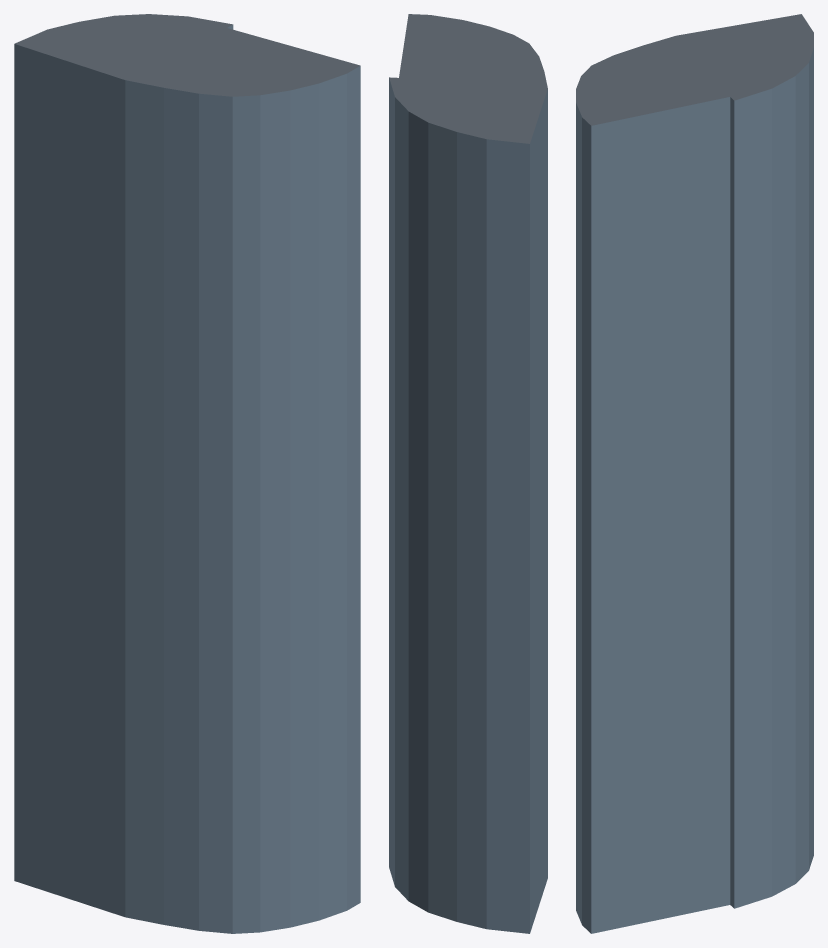
The picture shows the model from 3 angles, left to right: view 1: azimuth 30°, elevation 25°; view 2: azimuth 150°, elevation 25°; view 3: azimuth 270°, elevation 25°; orthographic projection. The views are drawn at different scales.
Visible parts, largest first — view 1: HP-w445860578; view 2: HP-w445860578; view 3: HP-w445860578.
Boxes of the visible parts, x1,y1,x2,y2 form: HP-w445860578: [14, 14, 360, 933]; HP-w445860578: [389, 14, 547, 933]; HP-w445860578: [576, 14, 813, 933].
Size of the model in its own units: 65.94 by 222 by 59.24.
